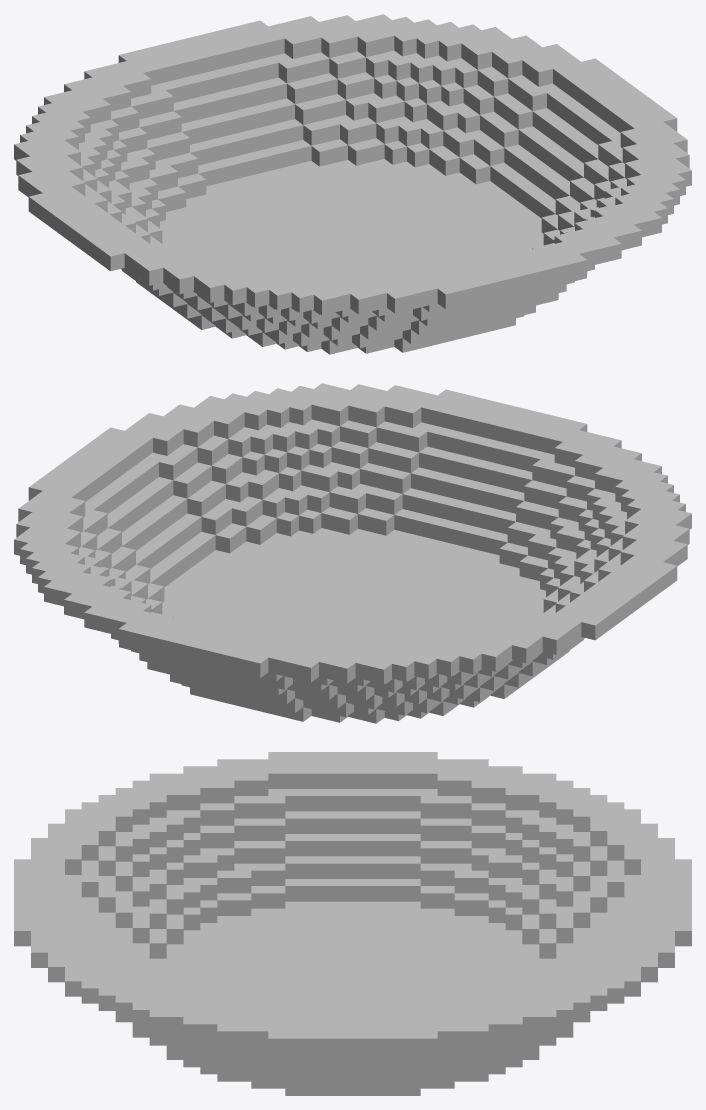
Rendered from EmptyBowl.obj.
3 renders of one model, top to bottom at view 1: azimuth 30°, elevation 25°; view 2: azimuth 150°, elevation 25°; view 3: azimuth 270°, elevation 25°, orthographic. The views are drawn at different scales.
Bounding box in the file's own units: 4 × 0.7 × 4.
Materials: 1 (1 with a texture image).
